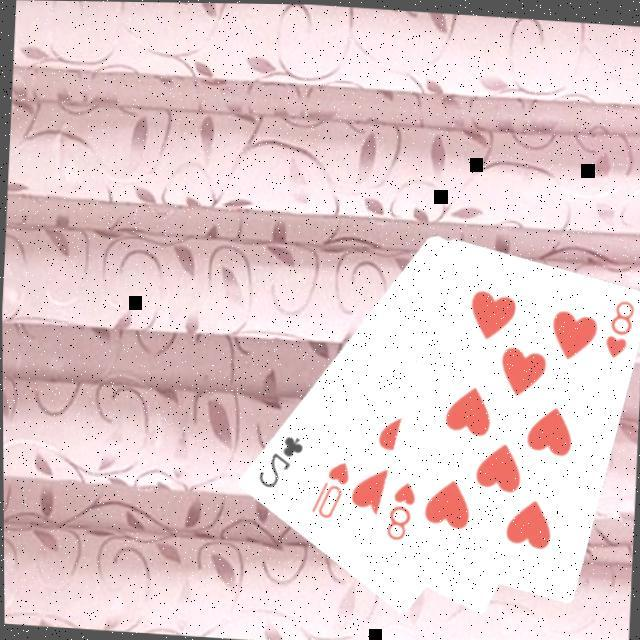10H: (307, 456, 354, 524)
2C: (254, 429, 308, 494)
8H: (382, 478, 420, 546), (602, 294, 639, 362)
